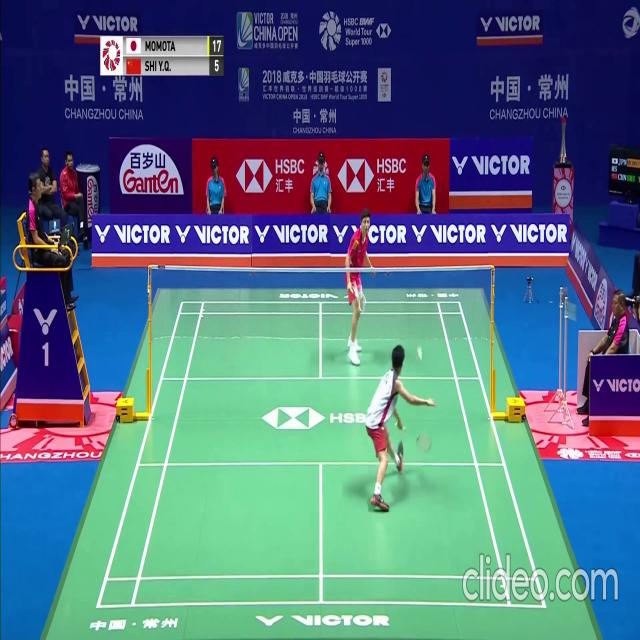Shuttlecock: (417, 349, 422, 356)
